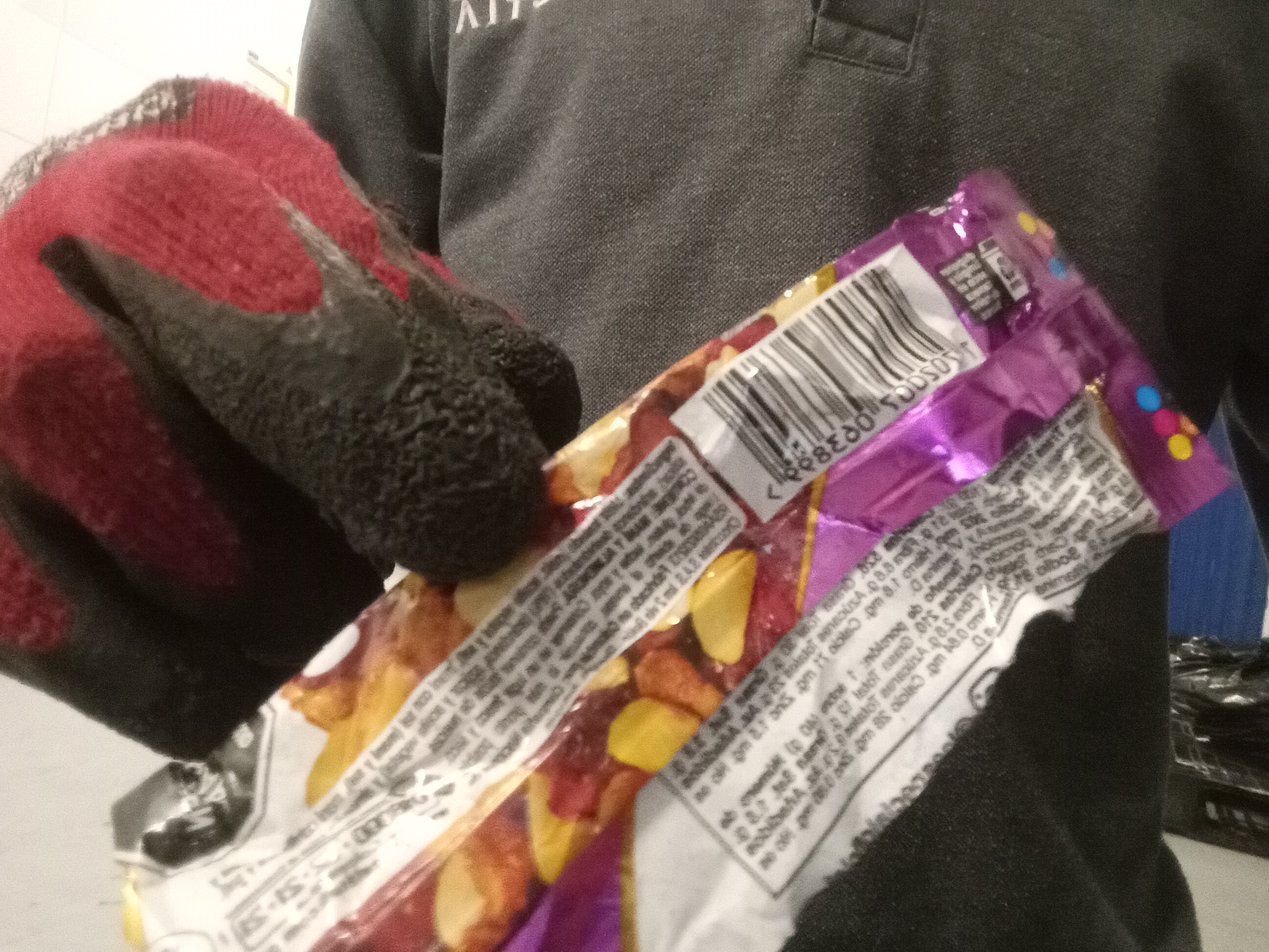Ordinario: (115, 166, 1236, 952)
